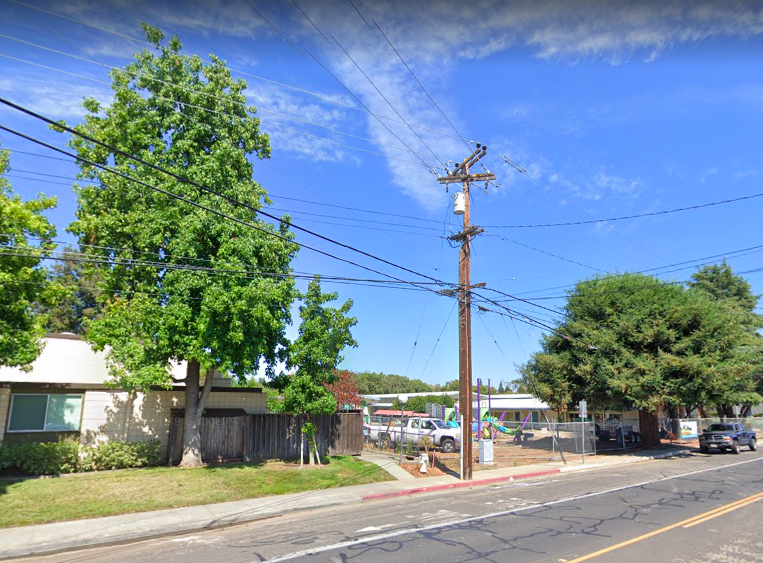tree: (48, 22, 300, 470), (509, 267, 755, 449)
utility_pole: (428, 129, 504, 249)
